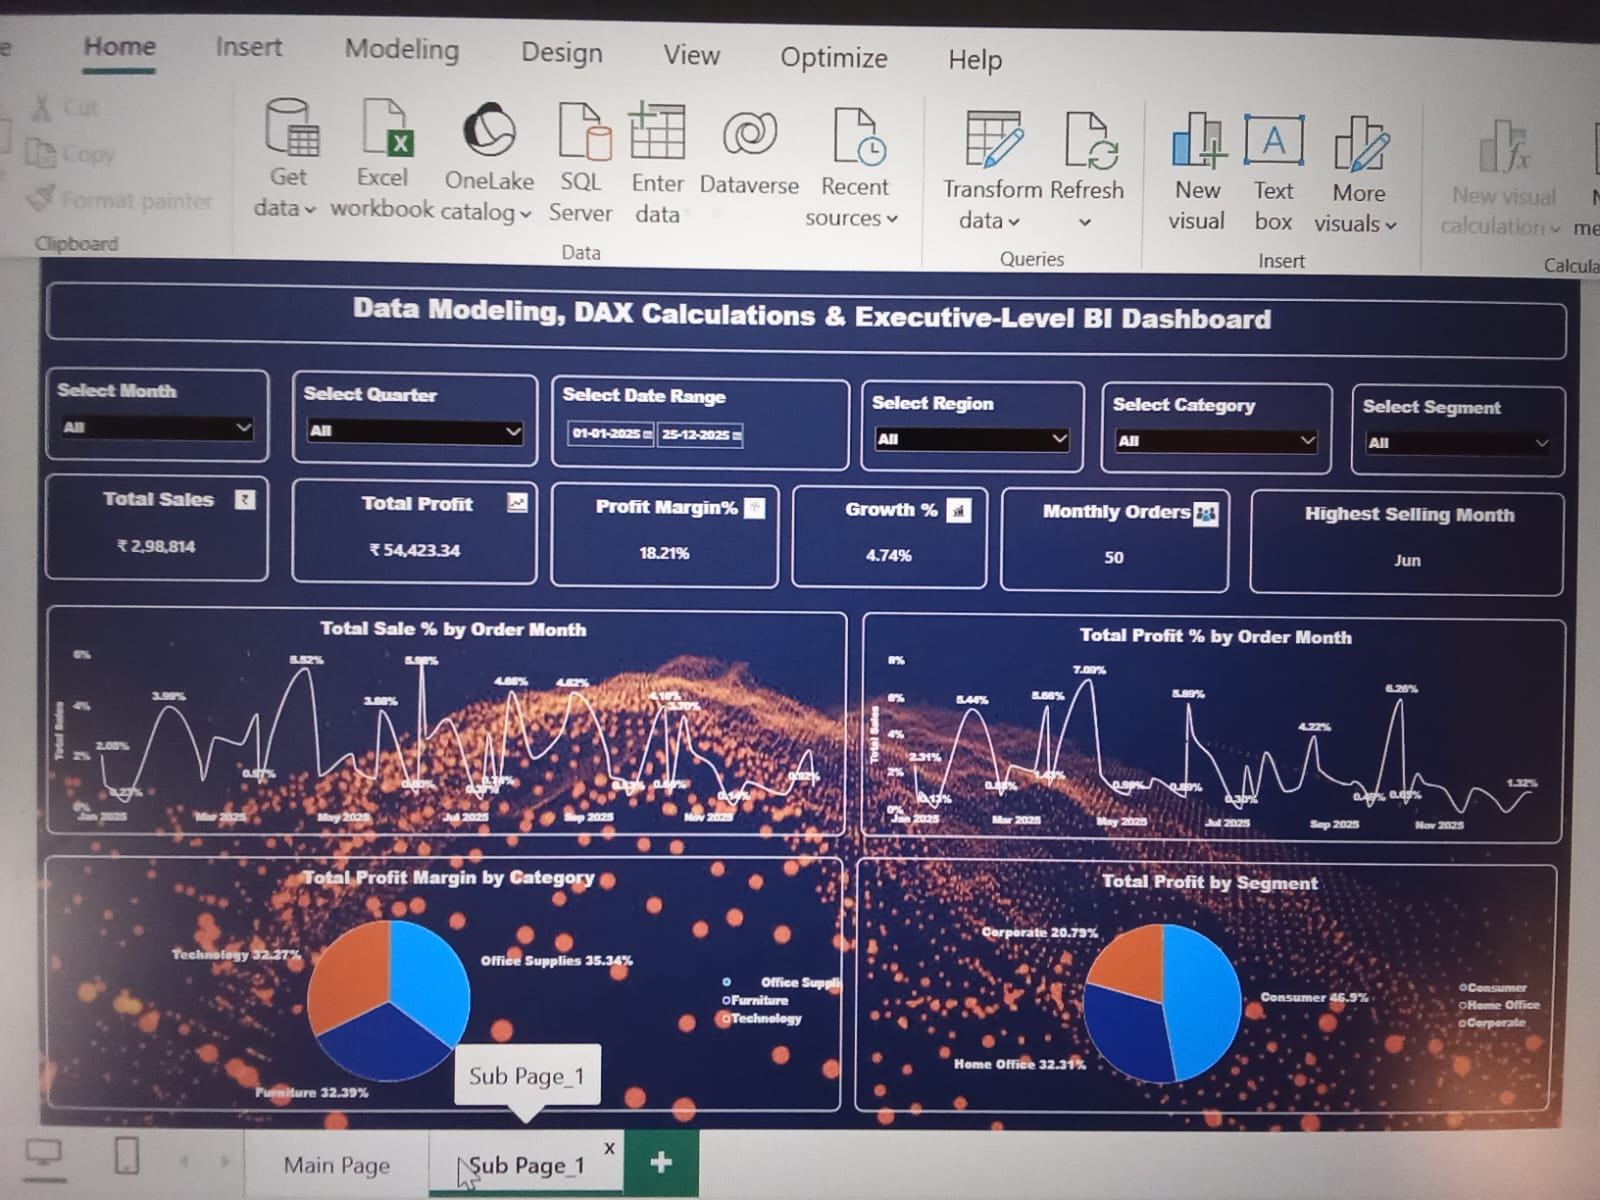

This screenshot's page, from the dashboard's own definition file:
{"tool":"powerbi","page":{"name":"Sub Page_1","canvas":[2560,1440],"ordinal":1},"visuals":[{"type":"textbox","box":[12.7,41.4,2525.9,95.4],"z":0},{"type":"cardVisual","title":"Total Sales","fields":{"Data":["Orders.Total Sale"]},"box":[12.7,356.3,362.7,175],"z":1000},{"type":"cardVisual","title":"Total Profit","fields":{"Data":["Orders.Total Profit"]},"box":[413.6,359.5,400.8,171.8],"z":2000},{"type":"cardVisual","title":"Profit Margin%","fields":{"Data":["Orders.Profit Margin"]},"box":[836.7,359.5,381.7,175],"z":3000},{"type":"cardVisual","title":"Growth %","fields":{"Data":["Orders.Growth%"]},"box":[1240.7,359.5,330.8,171.8],"z":4000},{"type":"slicer","title":"Select Month","fields":{"Values":["Orders.ORDER_DATE.Variation.Date Hierarchy.Year"]},"box":[12.7,181.3,362.7,152.7],"z":5000},{"type":"slicer","title":"Select Region","fields":{"Values":["CUSTOMER.REGION"]},"box":[1355.2,181.3,375.4,152.7],"z":6000},{"type":"slicer","title":"Select Category","fields":{"Values":["PRODUCT.CATEGORY"]},"box":[1759.2,181.3,384.9,152.7],"z":7000},{"type":"slicer","title":"Select Segment","fields":{"Values":["CUSTOMER.SEGMENT"]},"box":[2176,181.3,362.7,152.7],"z":8000},{"type":"lineChart","title":"Total Sale % by Order Month","fields":{"Category":["Orders.ORDER_DATE.Variation.Date Hierarchy.Month"],"Y":["Orders.Total Sale"]},"box":[15.9,572.6,1320.2,378.6],"z":9000},{"type":"lineChart","title":" Total Profit % by Order Month","fields":{"Category":["Orders.ORDER_DATE.Variation.Date Hierarchy.Month"],"Y":["Orders.Total Profit"]},"box":[1361.6,572.6,1183.4,378.6],"z":10000},{"type":"cardVisual","title":"Monthly Orders","fields":{"Data":["Orders.Monthly Orders"]},"box":[1593.8,359.5,381.7,175],"z":11000},{"type":"pieChart","title":"Total Profit Margin by Category","fields":{"Category":["PRODUCT.CATEGORY"],"Y":["Orders.Profit Margin"]},"box":[12.7,986.2,1320.2,423.1],"z":12000},{"type":"pieChart","title":"Total Profit by Segment","fields":{"Category":["CUSTOMER.SEGMENT"],"Y":["Orders.Total Profit"]},"box":[1355.2,986.2,1183.4,423.1],"z":13000},{"type":"slicer","title":"Select Quarter","fields":{"Values":["Calendar.Date.Variation.Date Hierarchy.Quarter"]},"box":[413.6,181.3,400.8,152.7],"z":13001},{"type":"slicer","title":"Select Date Range","fields":{"Values":["Calendar.Date"]},"box":[836.7,181.3,499.5,152.7],"z":13002},{"type":"image","box":[321.3,378.6,31.8,35],"z":13003},{"type":"image","box":[747.6,378.6,66.8,31.8],"z":13004},{"type":"image","box":[1158,381.7,38.2,35],"z":13005},{"type":"image","box":[1472.9,378.6,98.6,41.4],"z":13006},{"type":"image","box":[1896,381.7,79.5,41.4],"z":13007},{"type":"cardVisual","title":"Highest Selling Month","fields":{"Data":["Orders.Highest Selling Month"]},"box":[2010.5,359.5,528.1,175],"z":13008}]}

Visuals, with their boxes in screenshot pixels (x1, y1, x2, y2):
textbox: locate(58, 291, 1559, 348)
"Total Sales" cardVisual: locate(58, 478, 273, 583)
"Total Profit" cardVisual: locate(296, 480, 534, 583)
"Profit Margin%" cardVisual: locate(547, 480, 774, 584)
"Growth %" cardVisual: locate(788, 480, 984, 583)
"Select Month" slicer: locate(58, 374, 273, 465)
"Select Region" slicer: locate(856, 374, 1079, 465)
"Select Category" slicer: locate(1096, 374, 1325, 465)
"Select Segment" slicer: locate(1344, 374, 1559, 465)
"Total Sale % by Order Month" lineChart: locate(59, 607, 844, 832)
" Total Profit % by Order Month" lineChart: locate(859, 607, 1563, 832)
"Monthly Orders" cardVisual: locate(998, 480, 1224, 584)
"Total Profit Margin by Category" pieChart: locate(58, 853, 842, 1105)
"Total Profit by Segment" pieChart: locate(856, 853, 1559, 1105)
"Select Quarter" slicer: locate(296, 374, 534, 465)
"Select Date Range" slicer: locate(547, 374, 844, 465)
image: locate(241, 492, 260, 513)
image: locate(494, 492, 534, 511)
image: locate(738, 494, 761, 514)
image: locate(926, 492, 984, 516)
image: locate(1177, 494, 1224, 518)
"Highest Selling Month" cardVisual: locate(1245, 480, 1559, 584)
